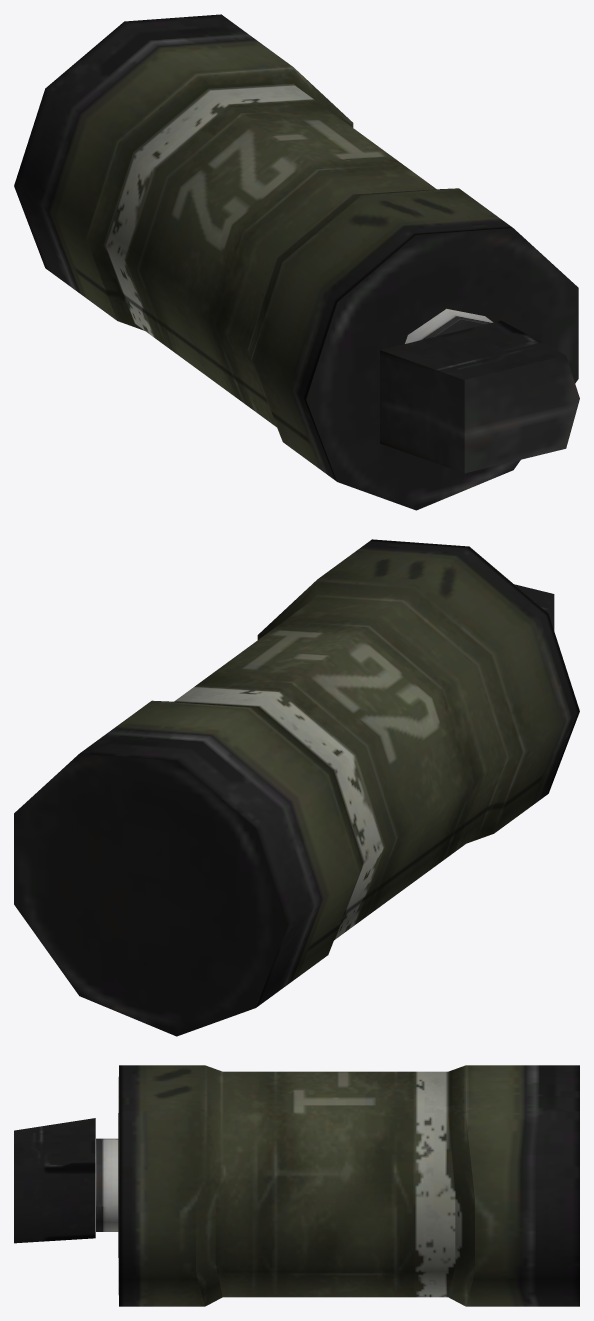
Rendered from t6_wpn_grenade_smoke_projectile_LOD1.obj.
3 renders of one model, top to bottom at view 1: azimuth 30°, elevation 25°; view 2: azimuth 150°, elevation 25°; view 3: azimuth 270°, elevation 25°, orthographic. The views are drawn at different scales.
Parts seen in each view (by area): view 1: mtl_t6_wpn_grenade_smoke; view 2: mtl_t6_wpn_grenade_smoke; view 3: mtl_t6_wpn_grenade_smoke.
Part boxes in pixels (bbox=[...]): mtl_t6_wpn_grenade_smoke: bbox=[14, 14, 579, 510]; mtl_t6_wpn_grenade_smoke: bbox=[14, 539, 579, 1036]; mtl_t6_wpn_grenade_smoke: bbox=[14, 1065, 579, 1306].
Bounding box in the file's own units: 6.09 × 5.88 × 13.88.
